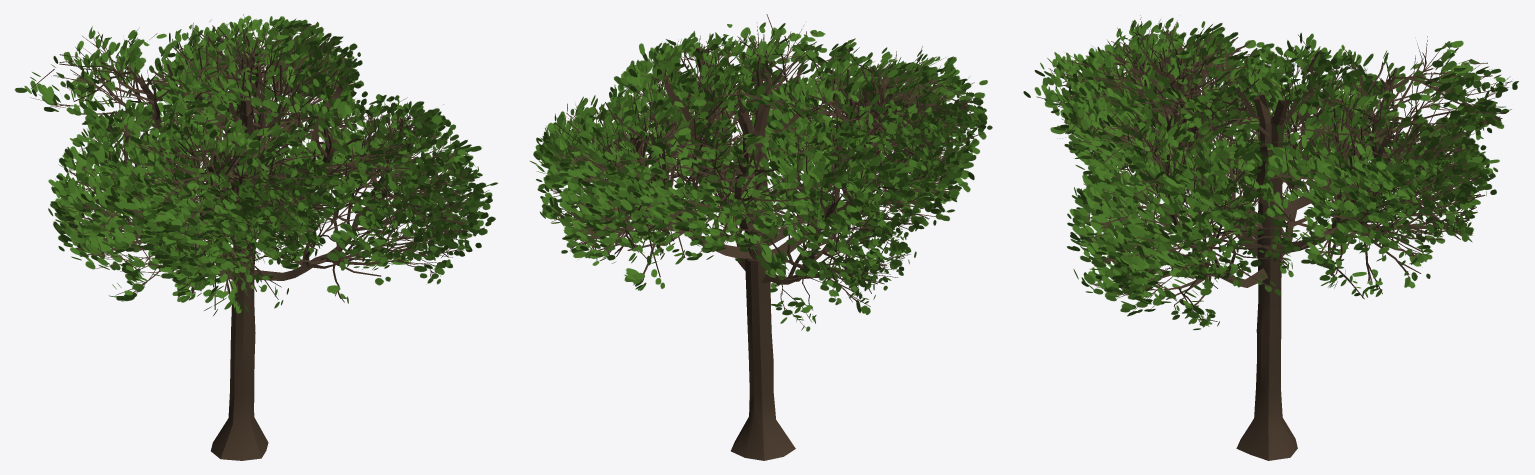
The picture shows the model from 3 angles, left to right: view 1: azimuth 30°, elevation 25°; view 2: azimuth 150°, elevation 25°; view 3: azimuth 270°, elevation 25°; orthographic projection. The views are drawn at different scales.
Parts seen in each view (by area): view 1: oak 01.001_trunk_Mat.001_0.031; view 2: oak 01.001_trunk_Mat.001_0.031; view 3: oak 01.001_trunk_Mat.001_0.031.
Boxes of the visible parts, x1,y1,x2,y2 form: oak 01.001_trunk_Mat.001_0.031: (14,14,497,460); oak 01.001_trunk_Mat.001_0.031: (530,14,992,460); oak 01.001_trunk_Mat.001_0.031: (1023,15,1518,460).
Size of the model in its own units: 4.26 by 3.91 by 4.74.
2 materials, 1 textured.
